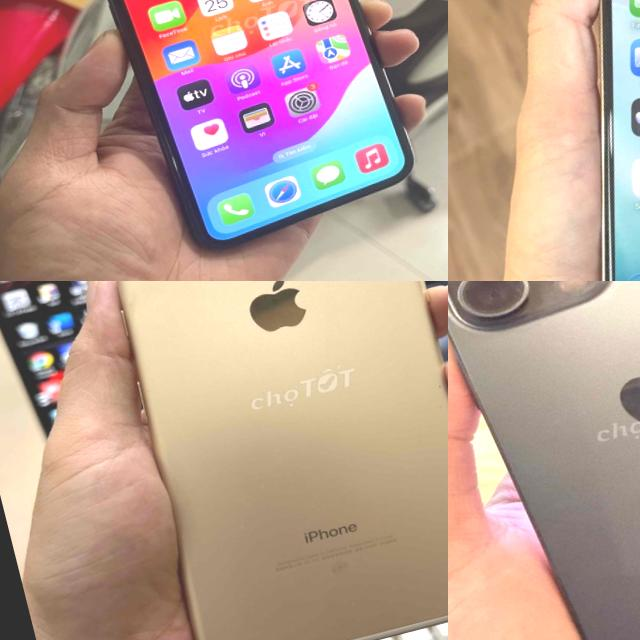scratch: (425, 376, 448, 402)
